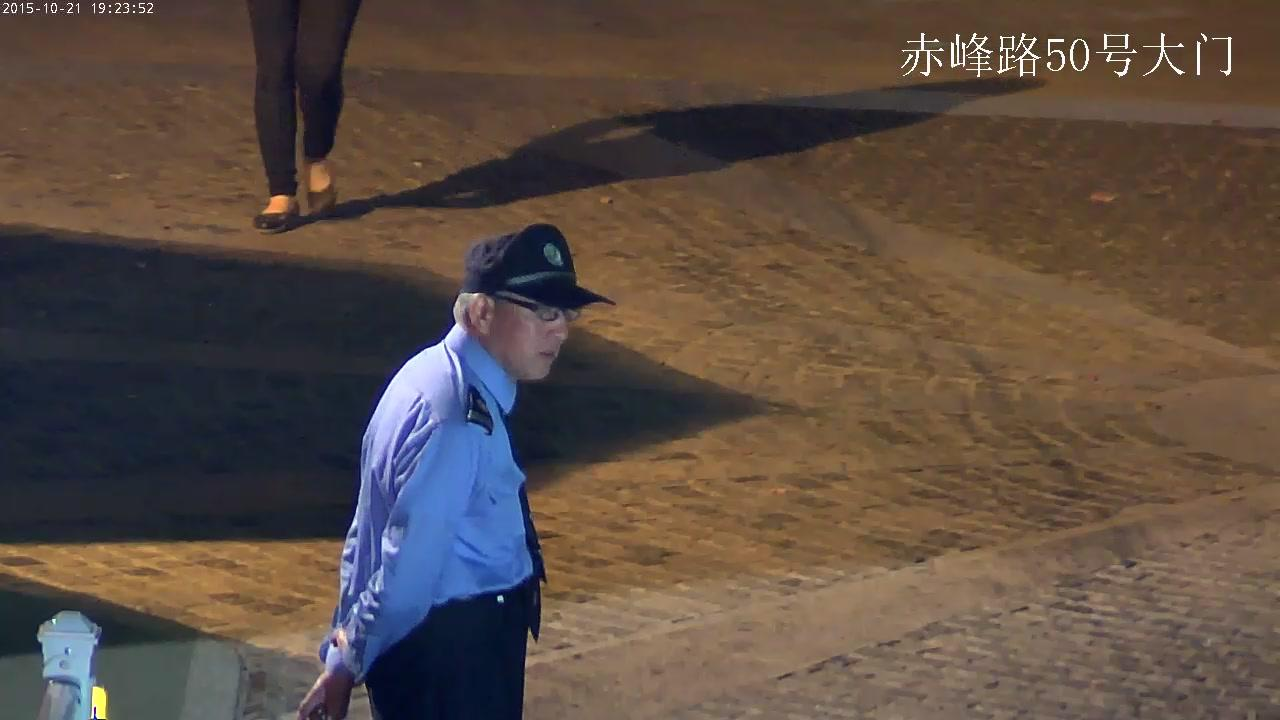face: (493, 291, 567, 380)
